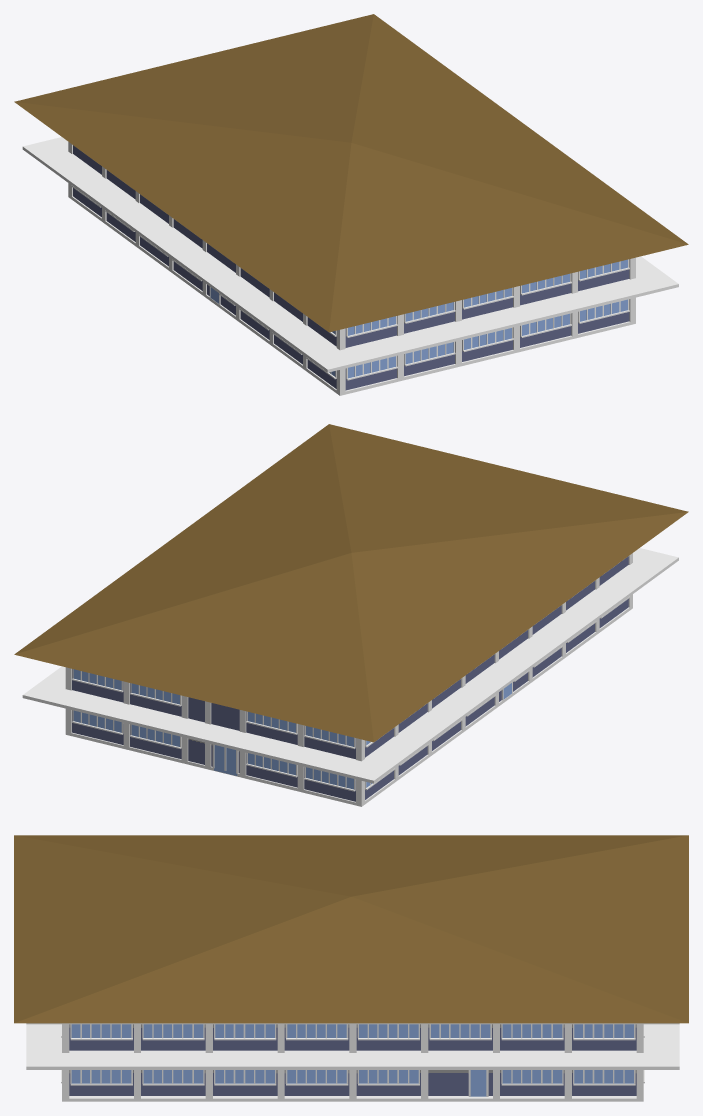
Rendered from Graduates.glb.
3 views of the same model, one above another, from view 1: azimuth 30°, elevation 25°; view 2: azimuth 150°, elevation 25°; view 3: azimuth 270°, elevation 25° (orthographic). The views are drawn at different scales.
Parts seen in each view (by area): view 1: pyramid; view 2: pyramid; view 3: pyramid.
Boxes of the visible parts, x1,y1,x2,y2 form: pyramid: (14,14,688,395); pyramid: (14,424,688,806); pyramid: (14,835,688,1101).
Size of the model in its own units: 7.75 by 2.44 by 11.75.
Materials: 4 (4 with a texture image).
